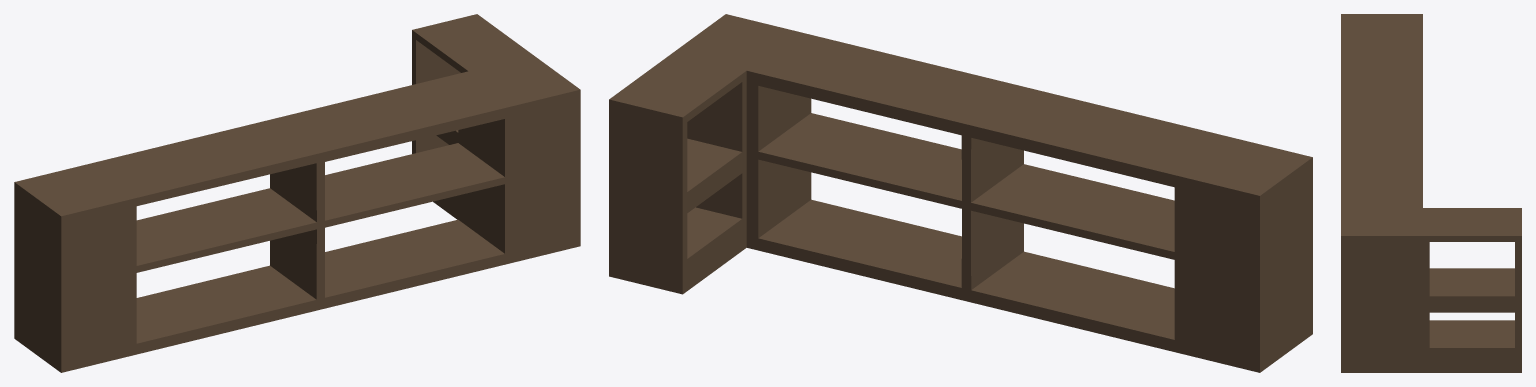
File: Estante Mediano 1.fbx
3 renders of one model, left to right at view 1: azimuth 30°, elevation 25°; view 2: azimuth 150°, elevation 25°; view 3: azimuth 270°, elevation 25°, orthographic. The views are drawn at different scales.
Visible parts, largest first — view 1: Estante_Mediano_1; view 2: Estante_Mediano_1; view 3: Estante_Mediano_1.
Part boxes in pixels (x1,y1,x2,y2): Estante_Mediano_1: (14, 14, 580, 372); Estante_Mediano_1: (609, 14, 1312, 372); Estante_Mediano_1: (1341, 14, 1521, 372).
Size of the model in its own units: 5.07 by 1.46 by 1.75.
